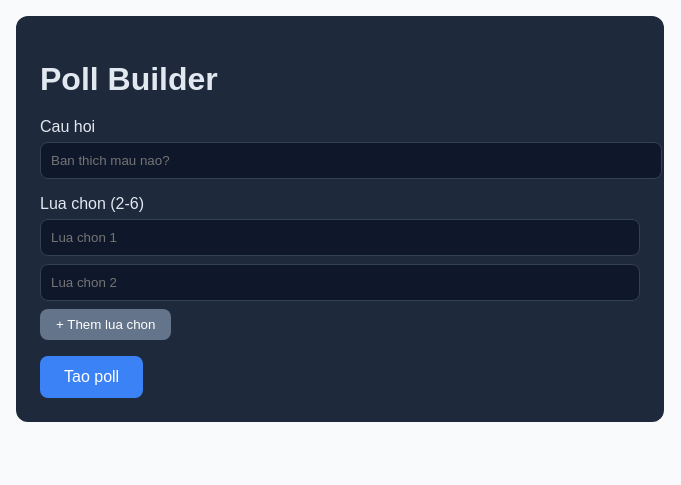
Scenario: CreatePoll › báo lỗi khi chưa nhập câu hỏi
Click the button "Tao poll" at x=92, y=377, box [40, 356, 143, 398]
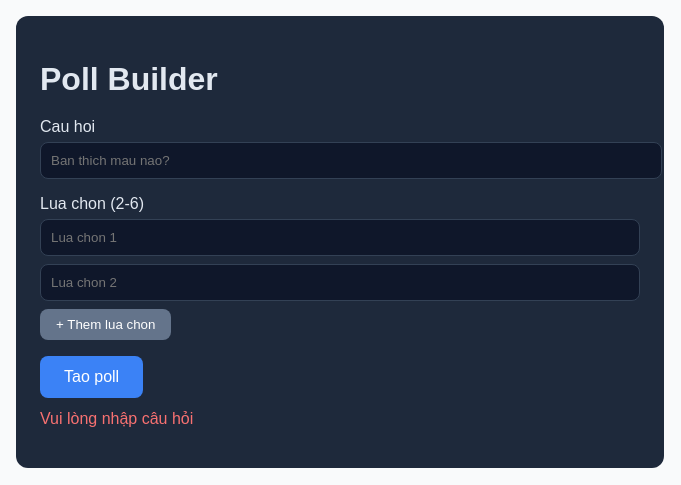
Expected: the text "Vui lòng nhập câu hỏi" is shown, [40, 410, 193, 427]
